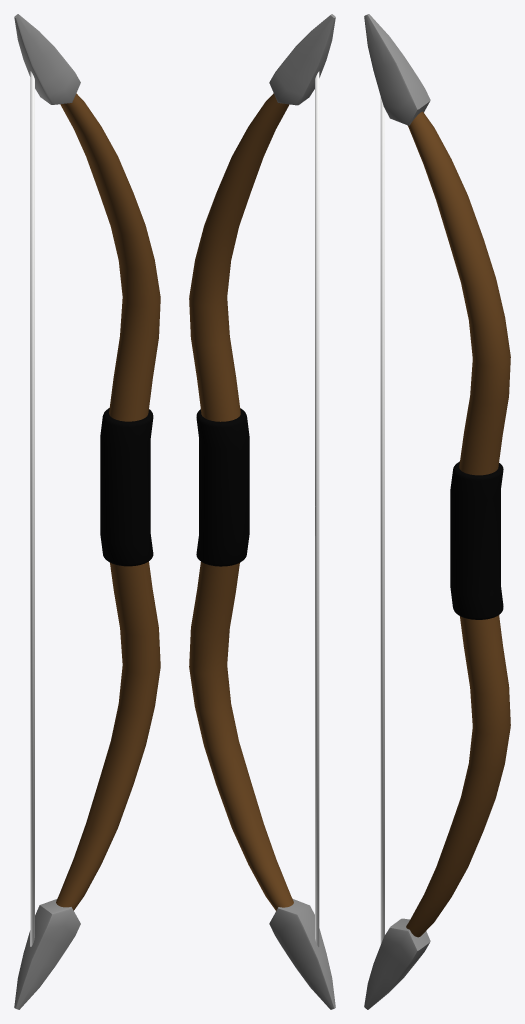
The model's file is Bow_02.fbx.
3 views of the same model, side by side, from view 1: azimuth 30°, elevation 25°; view 2: azimuth 150°, elevation 25°; view 3: azimuth 330°, elevation 25° (orthographic).
Parts seen in each view (by area): view 1: Bow_02, String_Bow02; view 2: Bow_02, String_Bow02; view 3: Bow_02, String_Bow02.
Boxes of the visible parts, <box> form: Bow_02: <box>14,14,160,1009</box>; String_Bow02: <box>30,71,34,946</box>; Bow_02: <box>189,14,335,1009</box>; String_Bow02: <box>315,71,319,946</box>; Bow_02: <box>364,14,510,1009</box>; String_Bow02: <box>380,97,384,944</box>.
Size of the model in its own units: 229 by 1518 by 70.13.
